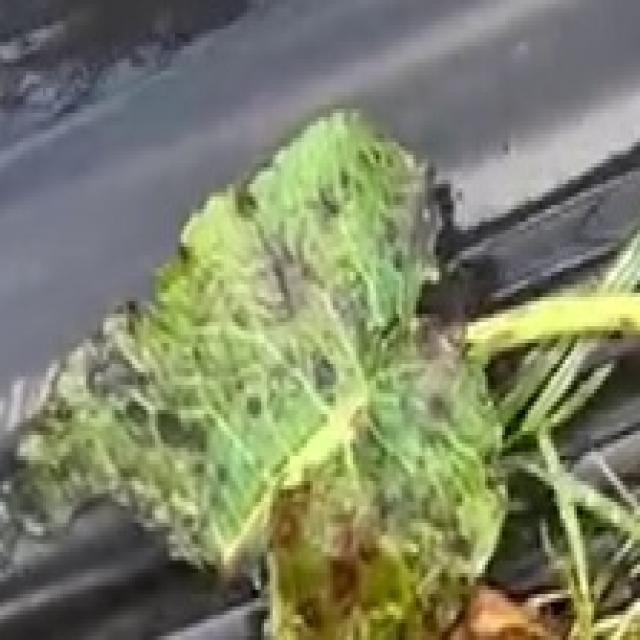organic waste: (8, 120, 640, 630)
